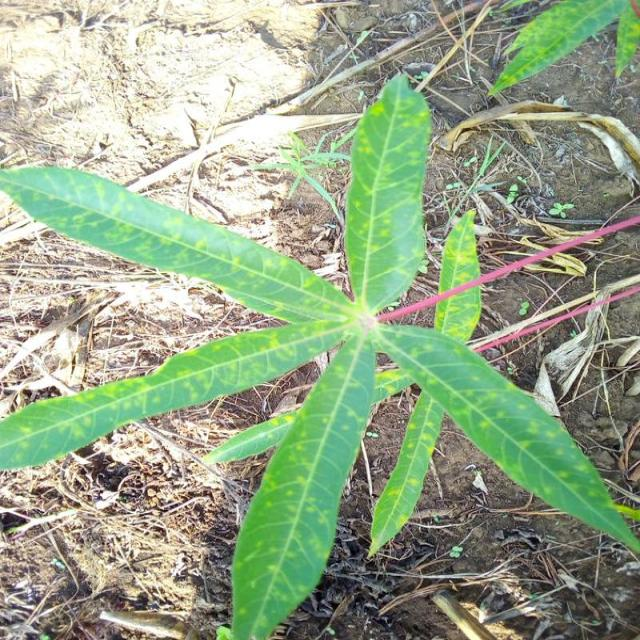cassava leaf: (0, 70, 638, 638), (372, 321, 638, 557), (223, 325, 376, 638), (342, 71, 432, 316), (432, 208, 482, 343)
